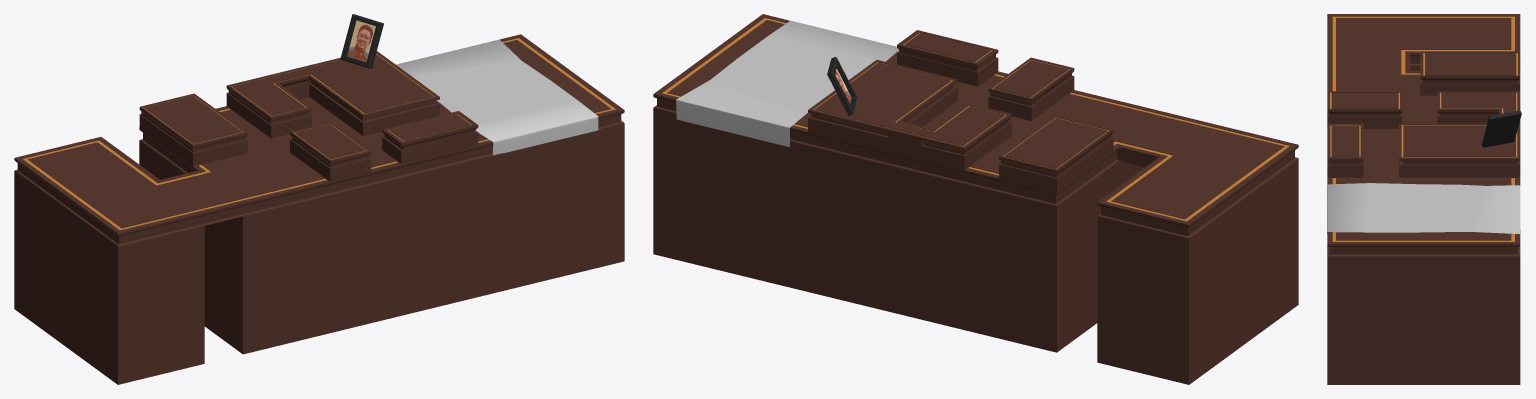
The model's file is Table_5.fbx.
The picture shows the model from 3 angles, left to right: view 1: azimuth 30°, elevation 25°; view 2: azimuth 150°, elevation 25°; view 3: azimuth 270°, elevation 25°; orthographic projection. The views are drawn at different scales.
Visible parts, largest first — view 1: Cube.272; view 2: Cube.272; view 3: Cube.272.
Part boxes in pixels (x1,y1,x2,y2): Cube.272: (14,14,624,384); Cube.272: (653,14,1298,384); Cube.272: (1327,14,1521,384).
Size of the model in its own units: 5672 by 2275 by 2029.
